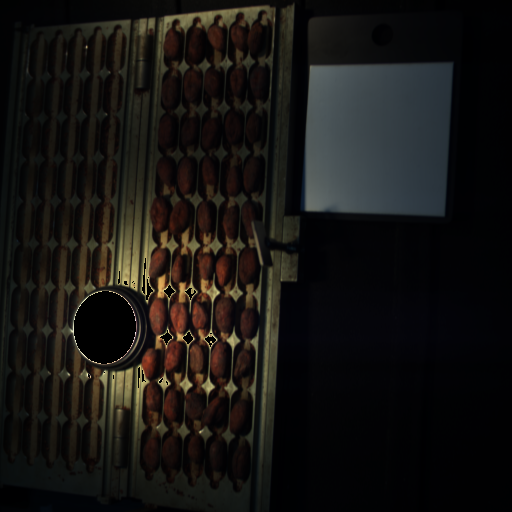bueno: (228, 399, 250, 434), (207, 441, 227, 468), (206, 395, 224, 424), (145, 383, 161, 409), (187, 436, 204, 460)
malo: (171, 201, 194, 233), (215, 297, 236, 331), (232, 445, 253, 479), (170, 301, 190, 332), (178, 158, 195, 193), (223, 206, 241, 239), (197, 202, 218, 230), (216, 255, 234, 286), (149, 250, 169, 277), (181, 119, 200, 147), (141, 349, 160, 377), (160, 115, 176, 147), (240, 309, 258, 337), (230, 69, 247, 98), (189, 345, 207, 372), (152, 199, 168, 229), (164, 30, 181, 57), (162, 77, 177, 107), (226, 114, 241, 143), (144, 437, 158, 467), (243, 202, 256, 234), (171, 256, 185, 283)
parcial: (148, 297, 168, 335), (239, 248, 259, 284), (164, 341, 186, 373), (186, 28, 205, 62), (250, 66, 270, 98), (211, 342, 229, 376), (183, 69, 202, 100), (163, 389, 181, 421), (248, 23, 266, 53), (157, 157, 175, 186), (162, 438, 181, 465), (203, 117, 219, 147), (243, 158, 257, 192), (201, 157, 218, 184), (185, 393, 203, 418), (192, 301, 208, 329), (205, 69, 222, 94), (208, 26, 226, 49), (234, 350, 249, 377), (231, 24, 247, 49), (198, 253, 213, 279), (245, 113, 258, 141), (226, 167, 239, 194)
